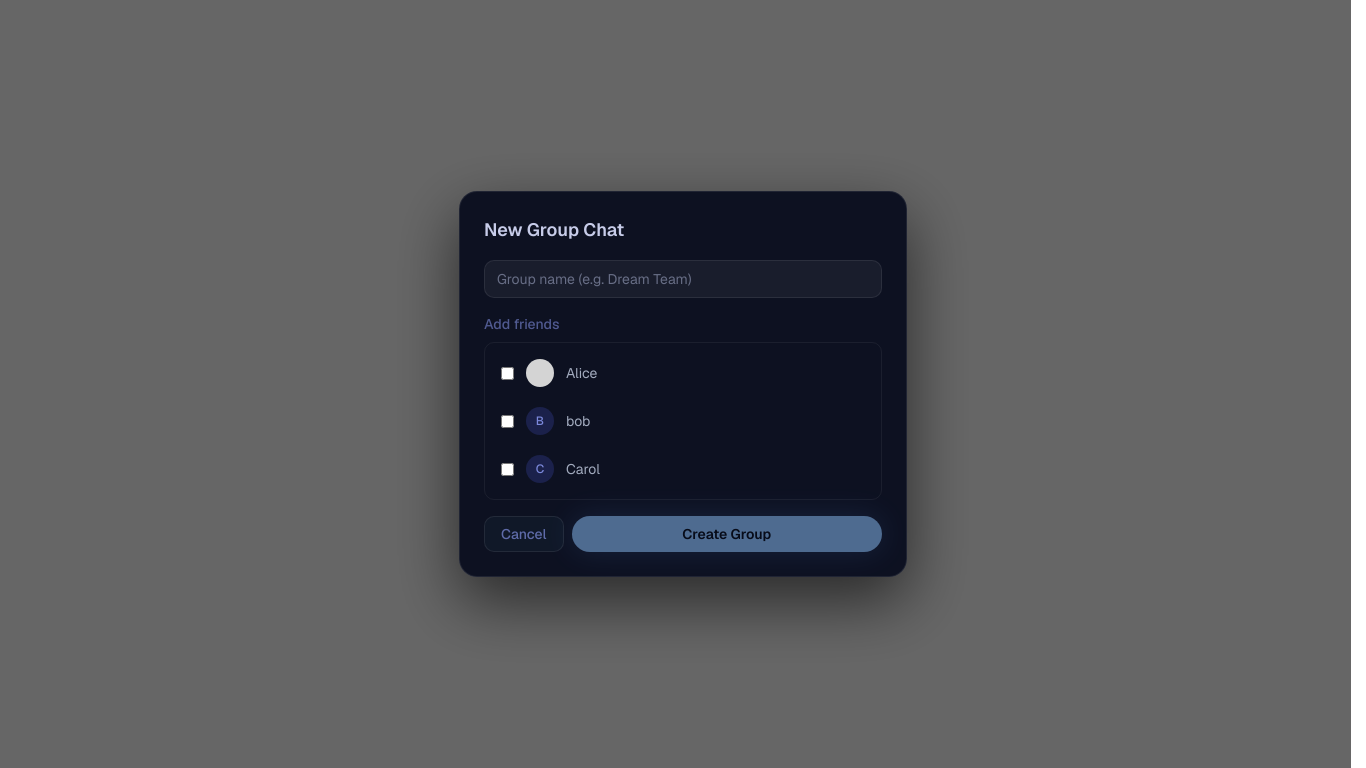
it: CreateGroupModal – rendering › Create Group button is enabled when name and at least one friend are provided
The width and height of the screenshot is (1366, 768).
In the field with placeholder "Group name (e.g. Dream Team)": (683, 279) [484,260,882,298], type "My Group"
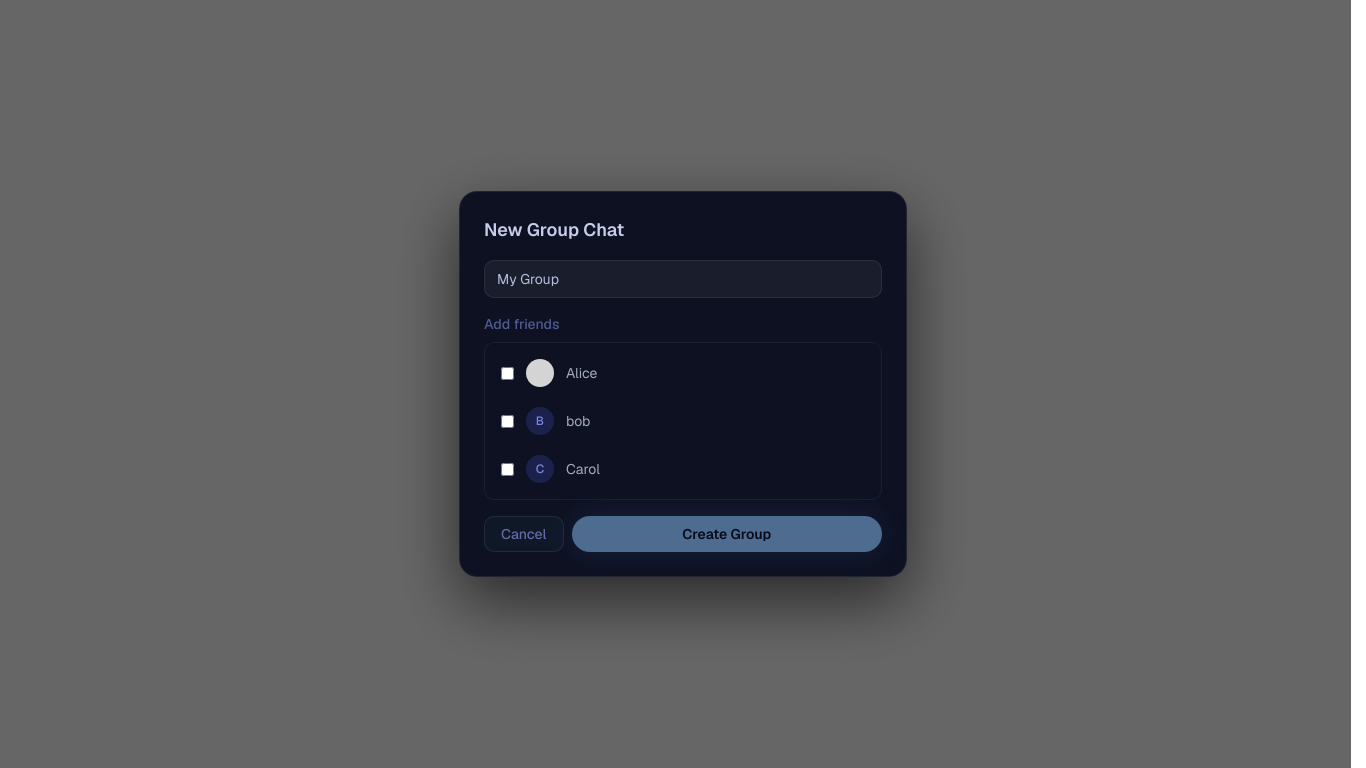
Click the text "Alice": (549, 373) [501,359,597,387]
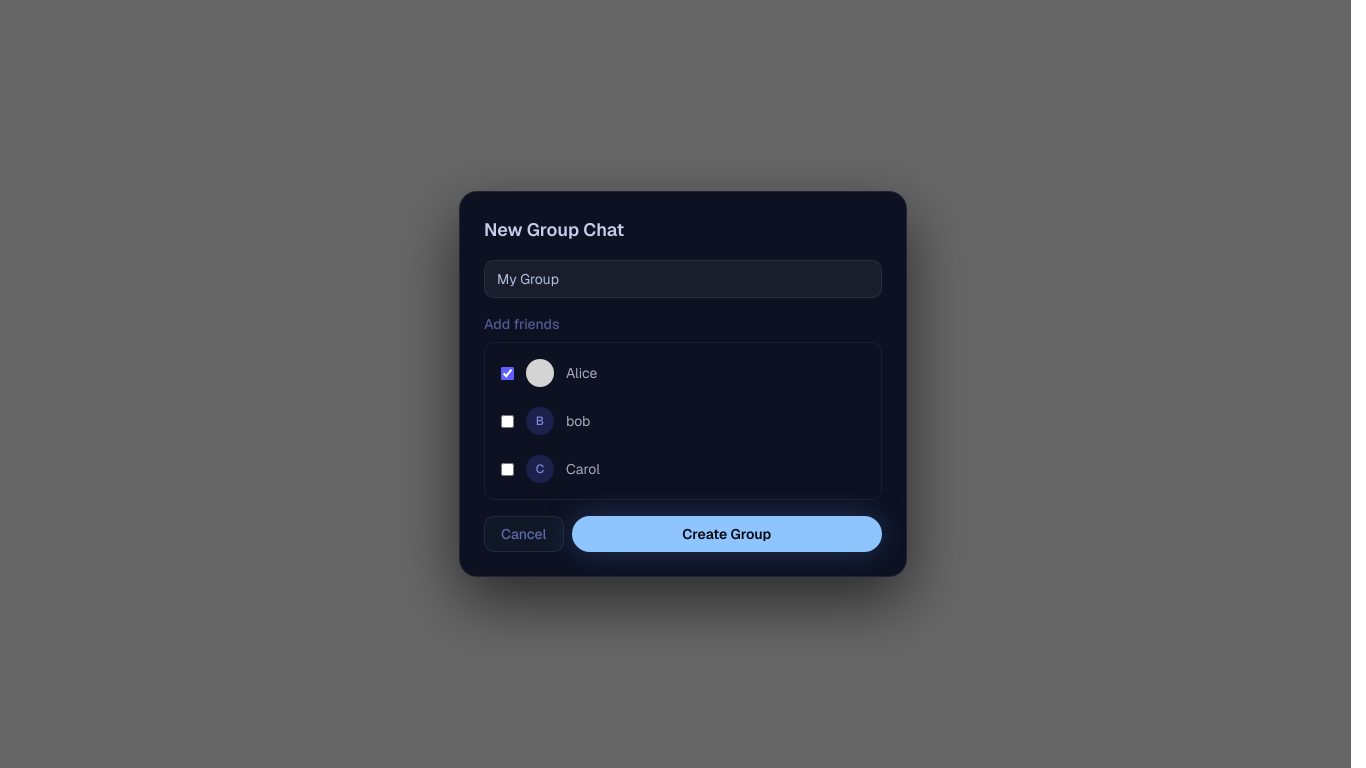
Check: the button "Create Group" is enabled, box [572,516,882,552]
